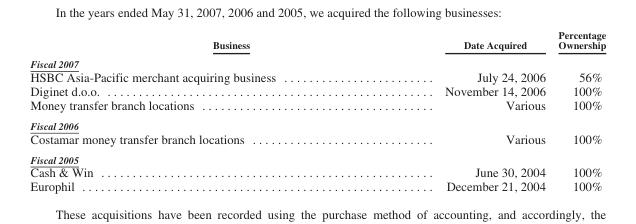table: (29, 28, 605, 193)
table column: (29, 28, 359, 193), (359, 28, 551, 193), (551, 28, 605, 193)
table column header: (29, 28, 605, 54)
table projected row header: (29, 115, 605, 131), (29, 54, 605, 69), (29, 149, 605, 164)
table row: (29, 28, 605, 54), (29, 97, 605, 115), (29, 131, 605, 149), (29, 115, 605, 131), (29, 54, 605, 69), (29, 149, 605, 164), (29, 164, 605, 179), (29, 69, 605, 83), (29, 83, 605, 97), (29, 179, 605, 193)
